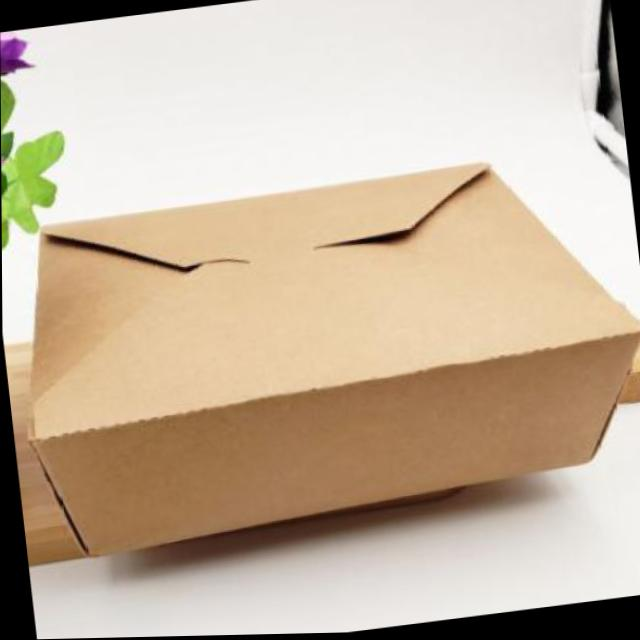box: (1, 110, 640, 597)
